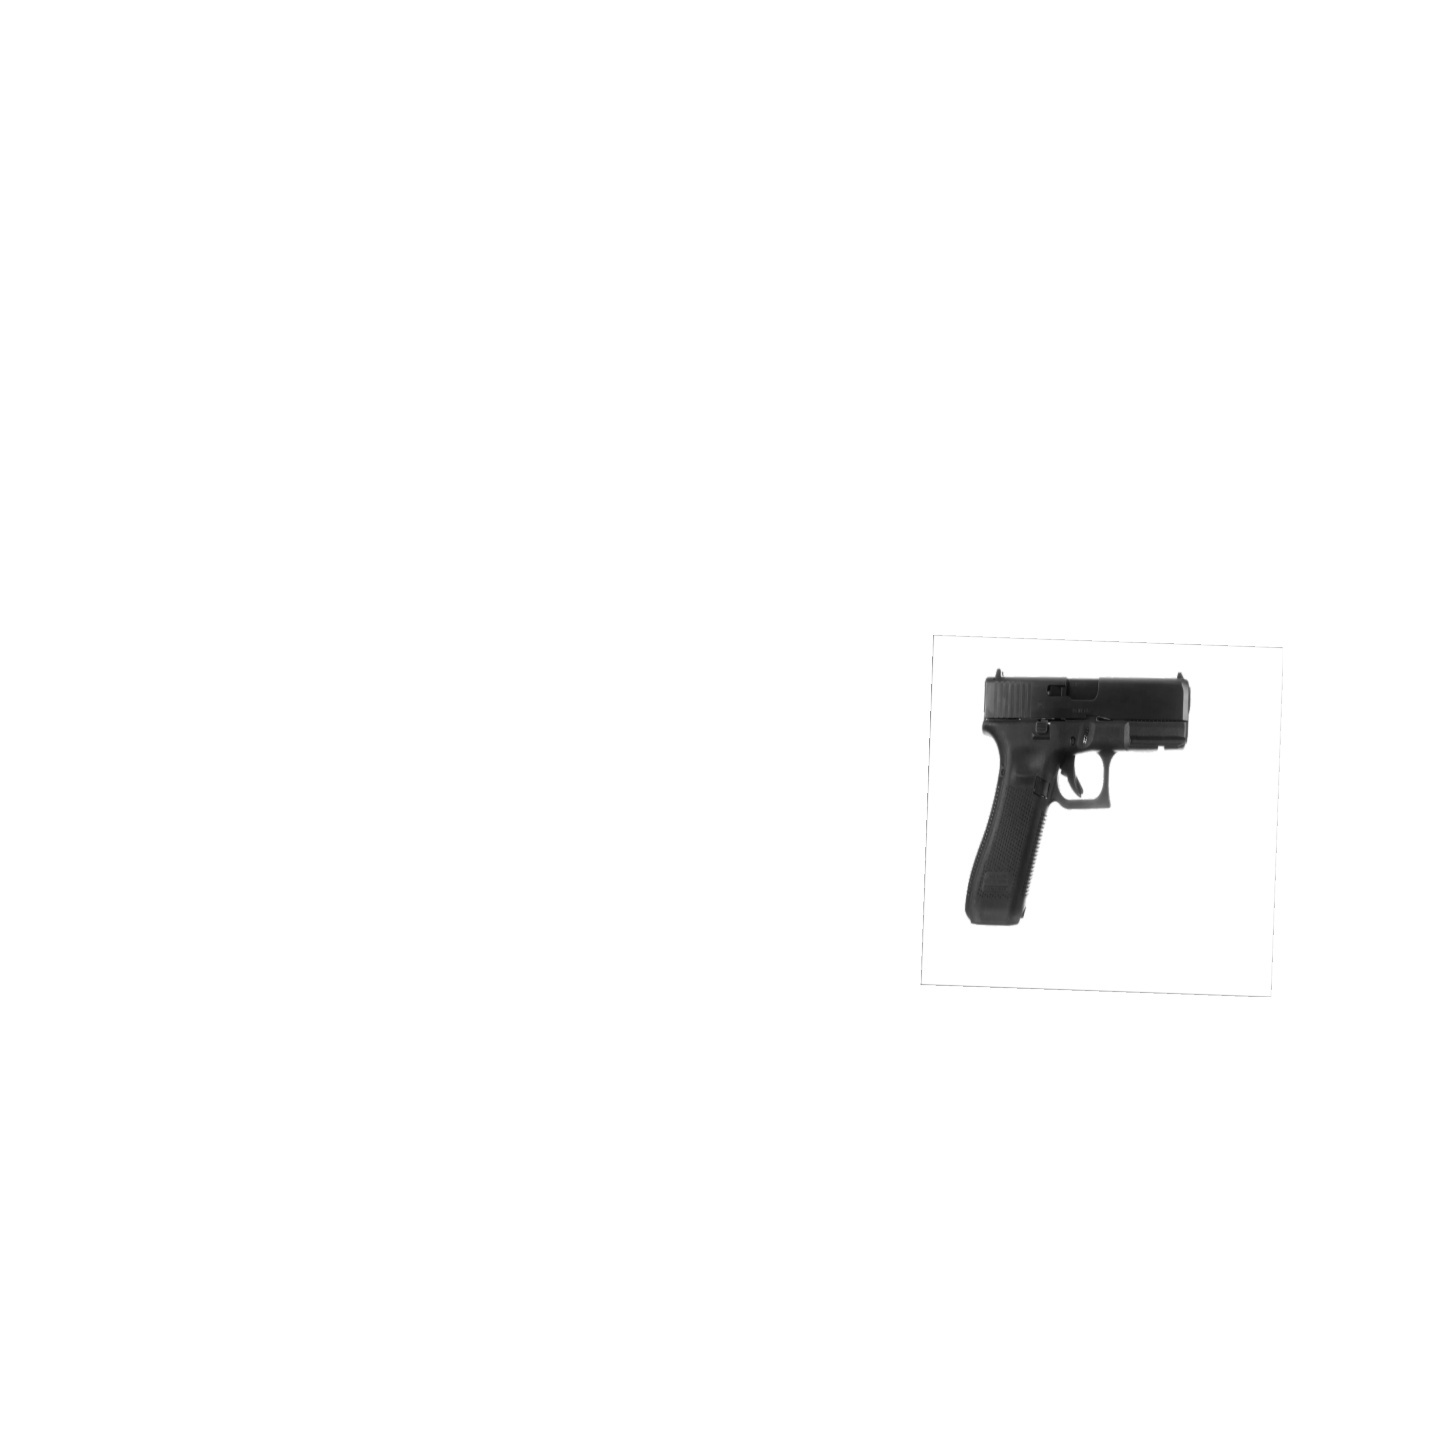gun: (967, 669, 1192, 926)
